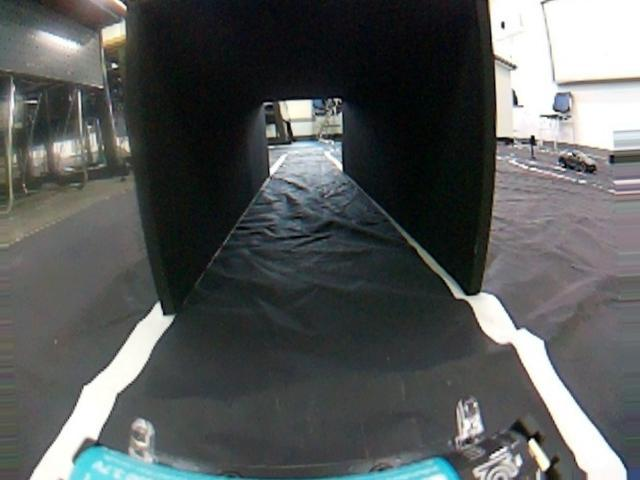straight: (9, 154, 640, 474)
